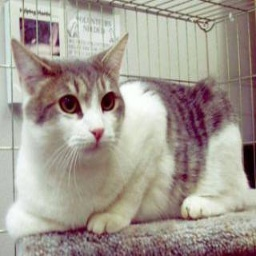cat: (2, 39, 256, 232)
